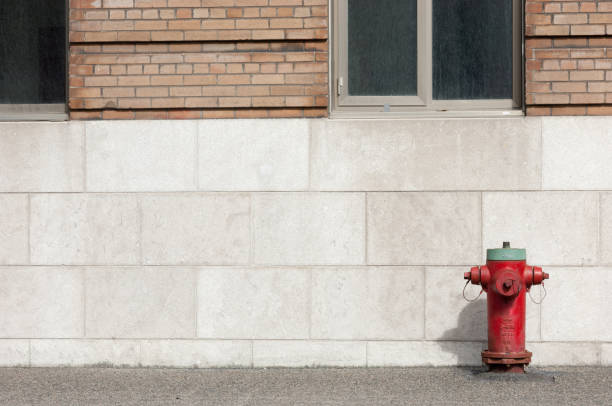firehdyrant: (458, 236, 551, 375)
